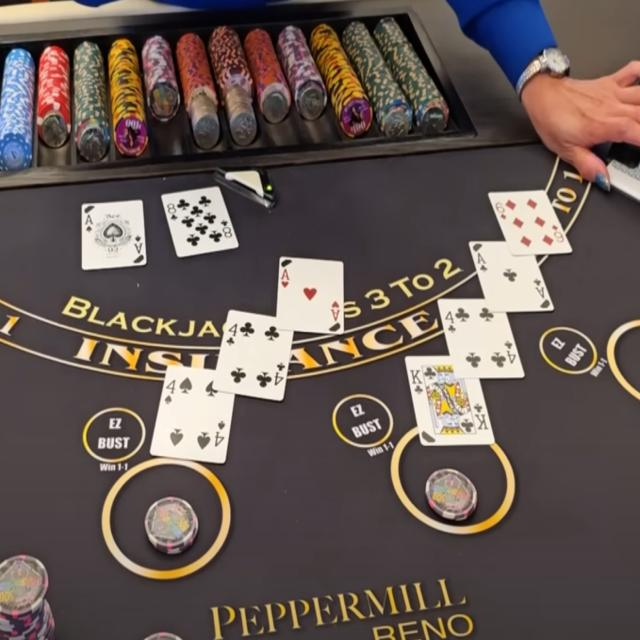4: (164, 376, 177, 395), (443, 306, 456, 324), (227, 321, 239, 337)
6: (494, 199, 506, 213)
8: (165, 202, 177, 214)
A: (475, 251, 489, 265), (279, 267, 291, 282), (82, 212, 94, 226)
K: (409, 366, 423, 386)
